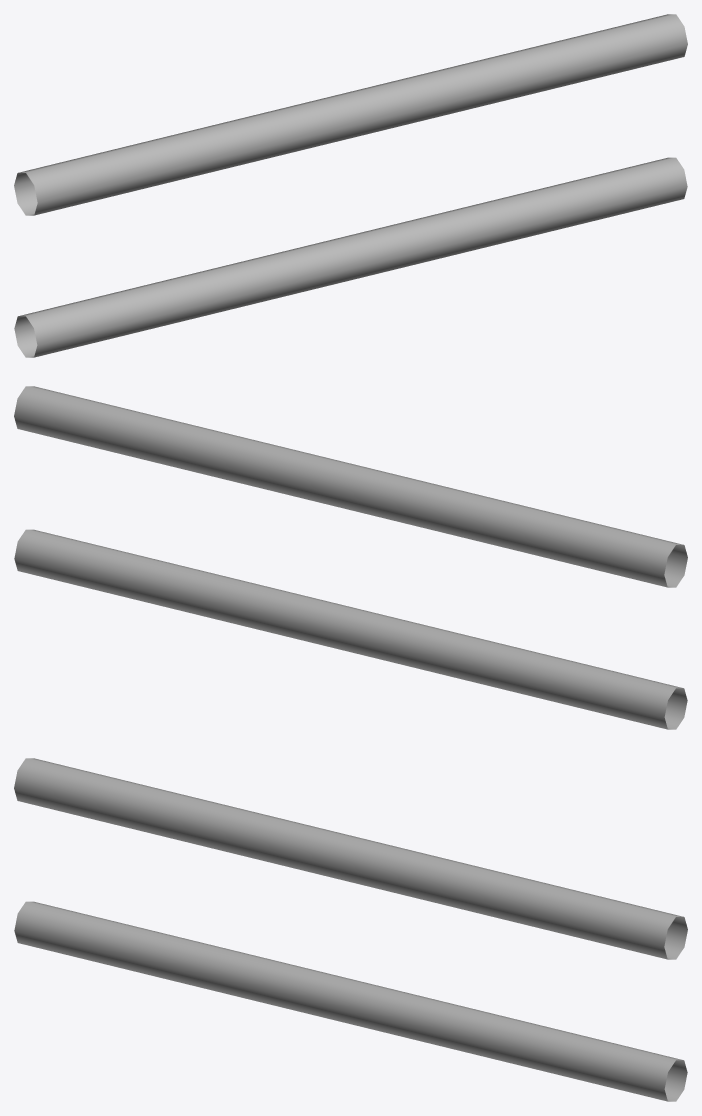
The model's file is railing_003.fbx.
The picture shows the model from 3 angles, top to bottom: view 1: azimuth 30°, elevation 25°; view 2: azimuth 150°, elevation 25°; view 3: azimuth 330°, elevation 25°; orthographic projection.
Parts seen in each view (by area): view 1: railing_003; view 2: railing_003; view 3: railing_003.
Boxes of the visible parts, x1,y1,x2,y2 form: railing_003: (14,14,687,357); railing_003: (14,386,687,729); railing_003: (14,758,687,1101).
Size of the model in its own units: 250 by 15.76 by 67.85.
